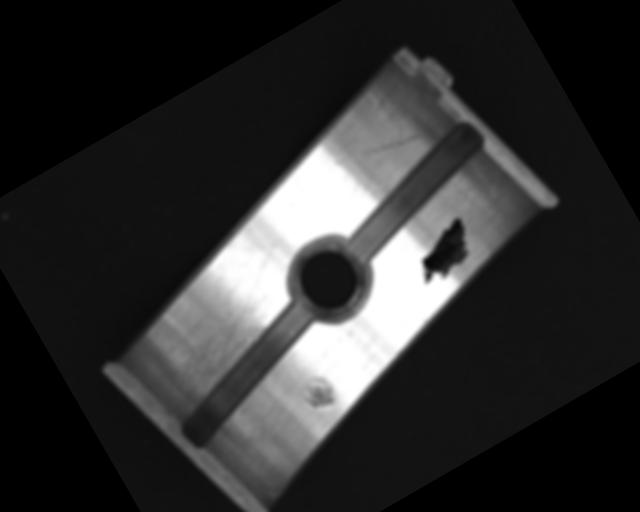blot: (402, 214, 483, 289)
bruise: (296, 369, 341, 415)
gap: (152, 295, 342, 450), (320, 117, 505, 267)
hole: (276, 227, 381, 331)
nick: (331, 114, 425, 183)
scratch: (123, 258, 310, 417)
